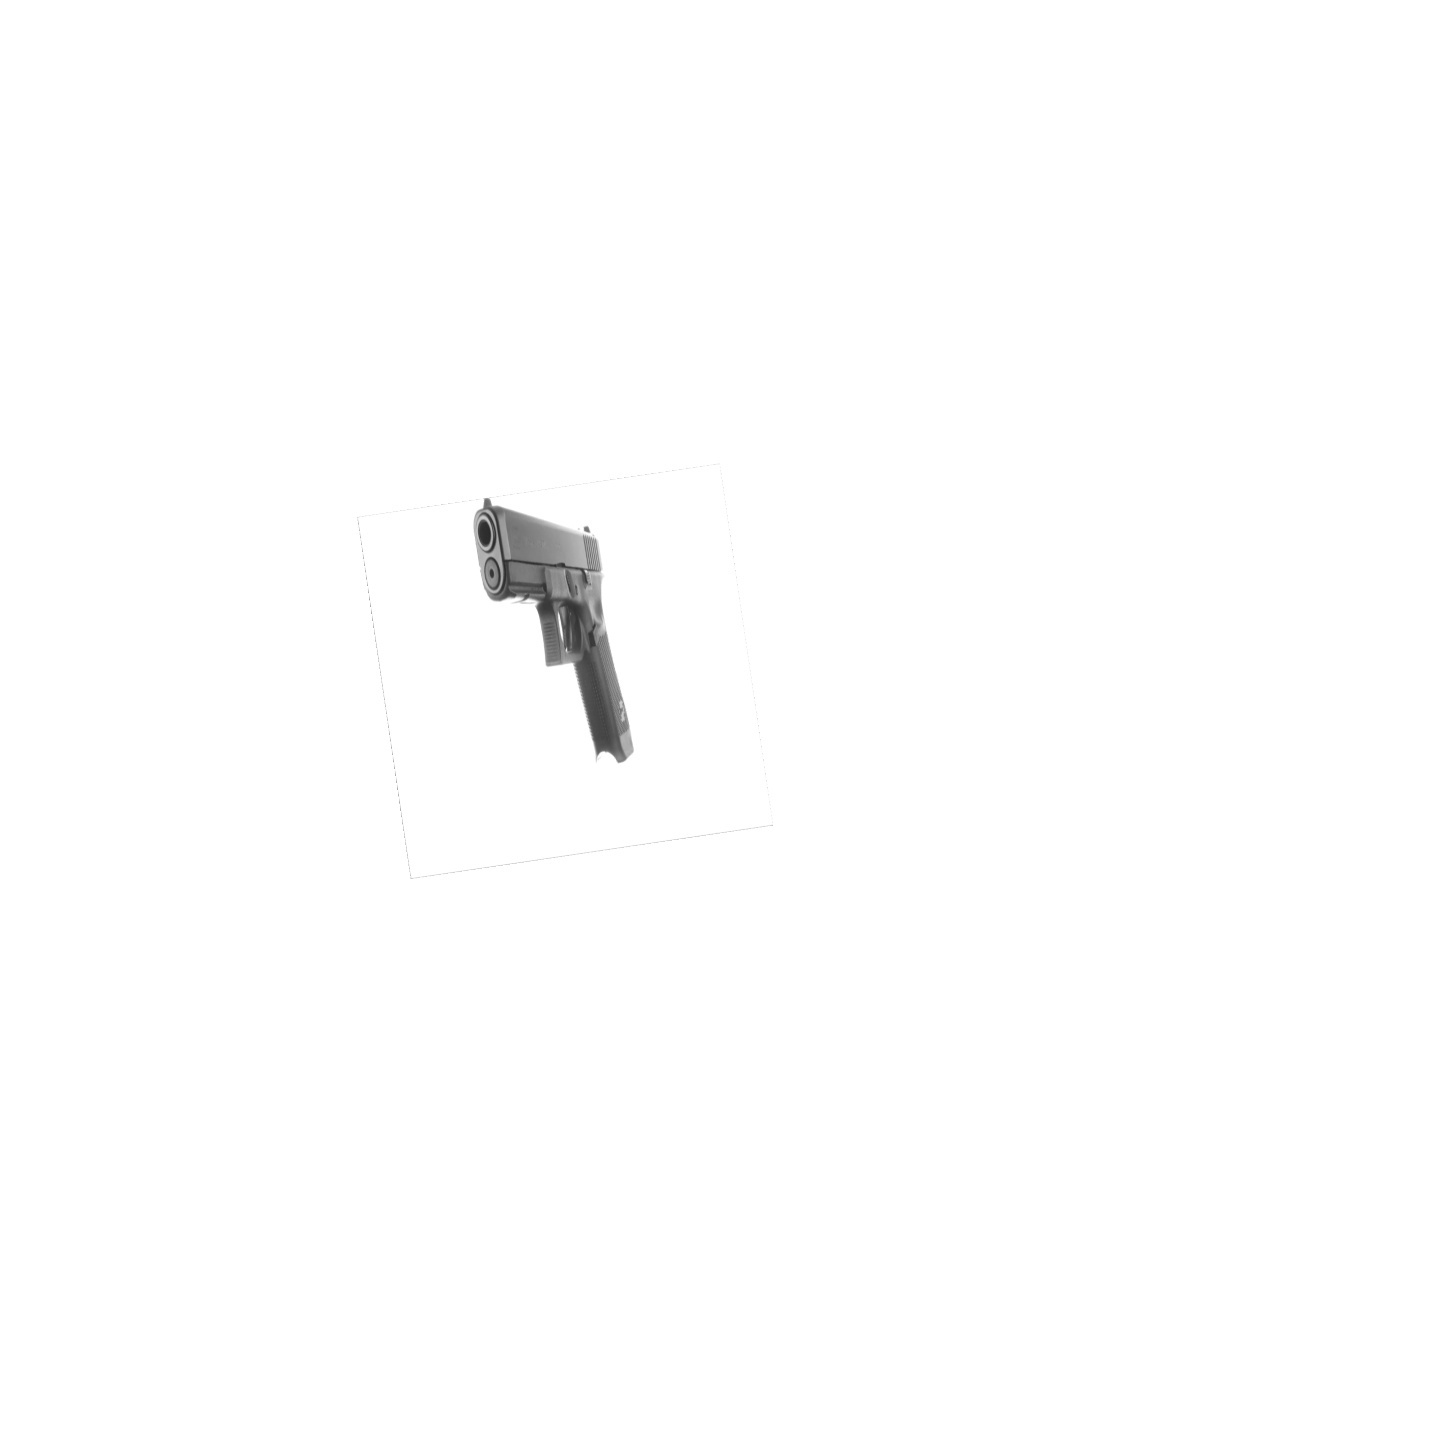gun: (452, 489, 683, 769)
